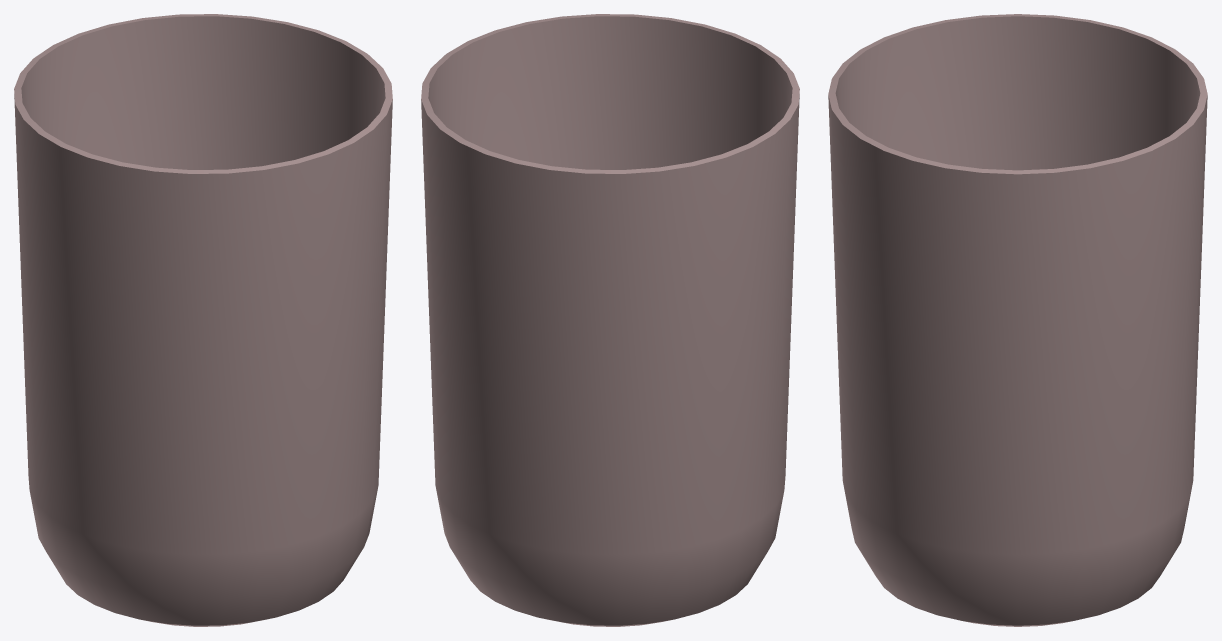
Rendered from gelas2.fbx.
The picture shows the model from 3 angles, left to right: view 1: azimuth 30°, elevation 25°; view 2: azimuth 150°, elevation 25°; view 3: azimuth 270°, elevation 25°; orthographic projection.
Visible parts, largest first — view 1: Cylinder.045; view 2: Cylinder.045; view 3: Cylinder.045.
Boxes of the visible parts, bbox=[...] form: Cylinder.045: bbox=[14, 14, 392, 626]; Cylinder.045: bbox=[421, 14, 799, 626]; Cylinder.045: bbox=[828, 14, 1207, 626].
Size of the model in its own units: 445 by 627 by 445.
